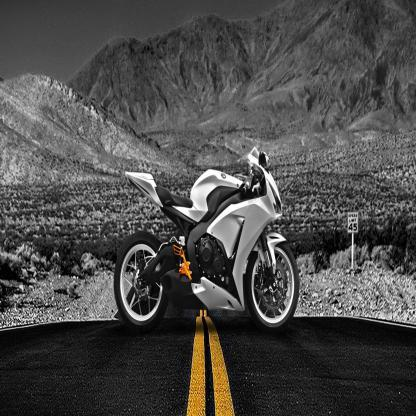Motorcycle: (112, 137, 300, 344)
